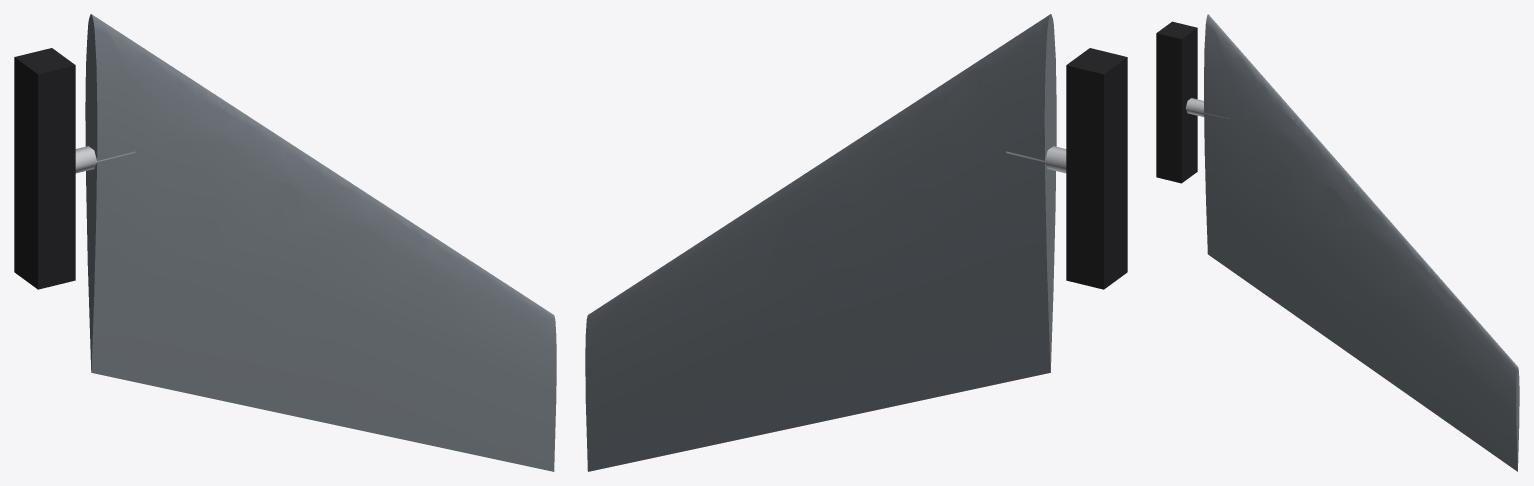
File: jet09_control_surface_canard_s.glb
3 views of the same model, side by side, from view 1: azimuth 30°, elevation 25°; view 2: azimuth 150°, elevation 25°; view 3: azimuth 330°, elevation 25° (orthographic). The views are drawn at different scales.
Parts seen in each view (by area): view 1: surface, root_housing, pivot_shaft; view 2: surface, root_housing, pivot_shaft; view 3: surface, root_housing.
Part boxes in pixels (box(x1,y1,x2,y2)): surface: box(85, 14, 556, 471); root_housing: box(14, 48, 75, 289); pivot_shaft: box(75, 146, 135, 173); surface: box(585, 14, 1056, 471); root_housing: box(1066, 48, 1127, 289); pivot_shaft: box(1006, 146, 1066, 173); surface: box(1204, 14, 1519, 471); root_housing: box(1156, 21, 1197, 183).
Size of the model in its own units: 1.23 by 1.27 by 0.096.
Materials: 3 (1 with a texture image).
